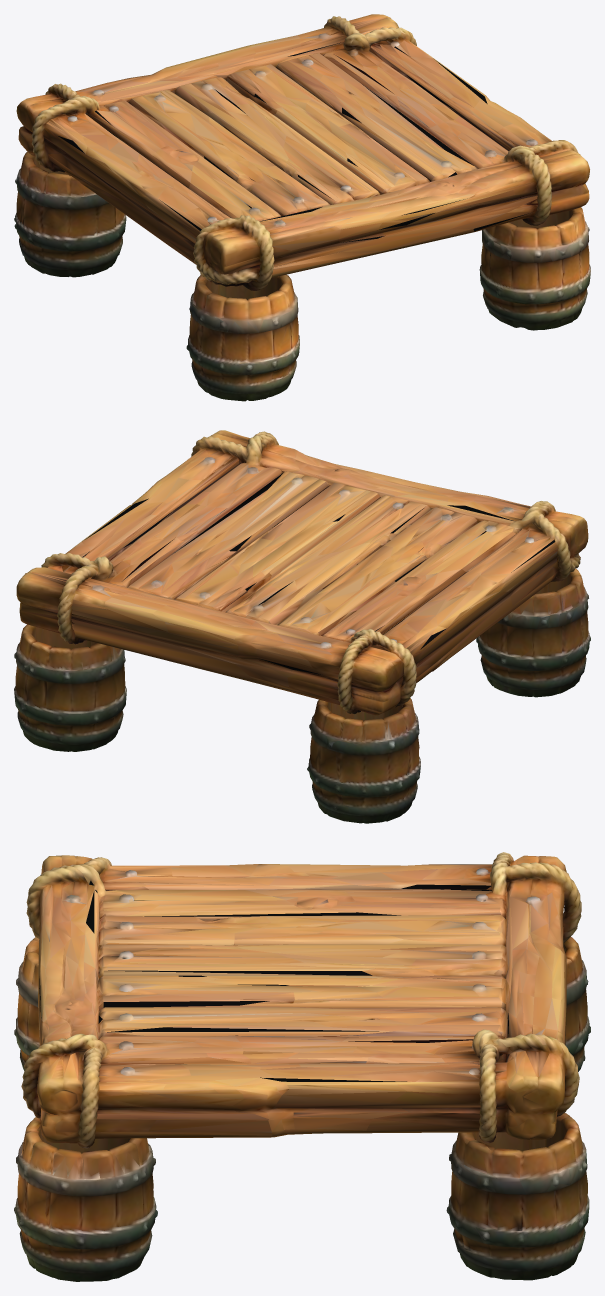
The model's file is plat_kare.glb.
3 views of the same model, one above another, from view 1: azimuth 30°, elevation 25°; view 2: azimuth 150°, elevation 25°; view 3: azimuth 270°, elevation 25° (orthographic). The views are drawn at different scales.
Parts seen in each view (by area): view 1: tripo_node_a09cf8aa-e59a-4f49-b302-591fcb965b26; view 2: tripo_node_a09cf8aa-e59a-4f49-b302-591fcb965b26; view 3: tripo_node_a09cf8aa-e59a-4f49-b302-591fcb965b26.
Part boxes in pixels (x1,y1,x2,y2): tripo_node_a09cf8aa-e59a-4f49-b302-591fcb965b26: [14, 14, 590, 401]; tripo_node_a09cf8aa-e59a-4f49-b302-591fcb965b26: [14, 430, 590, 823]; tripo_node_a09cf8aa-e59a-4f49-b302-591fcb965b26: [14, 852, 590, 1281].
Bounding box in the file's own units: 0.9783 × 0.4041 × 0.9791.
Materials: 1 (1 with a texture image).
